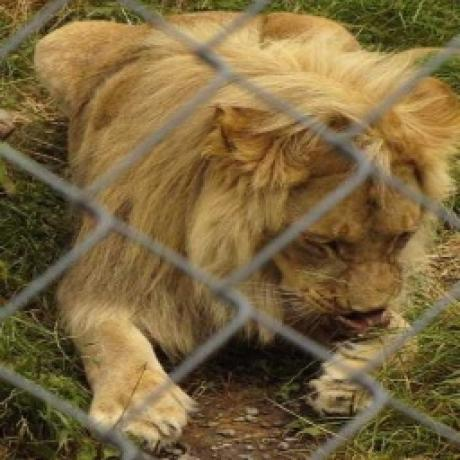Lion: (30, 5, 460, 449)
